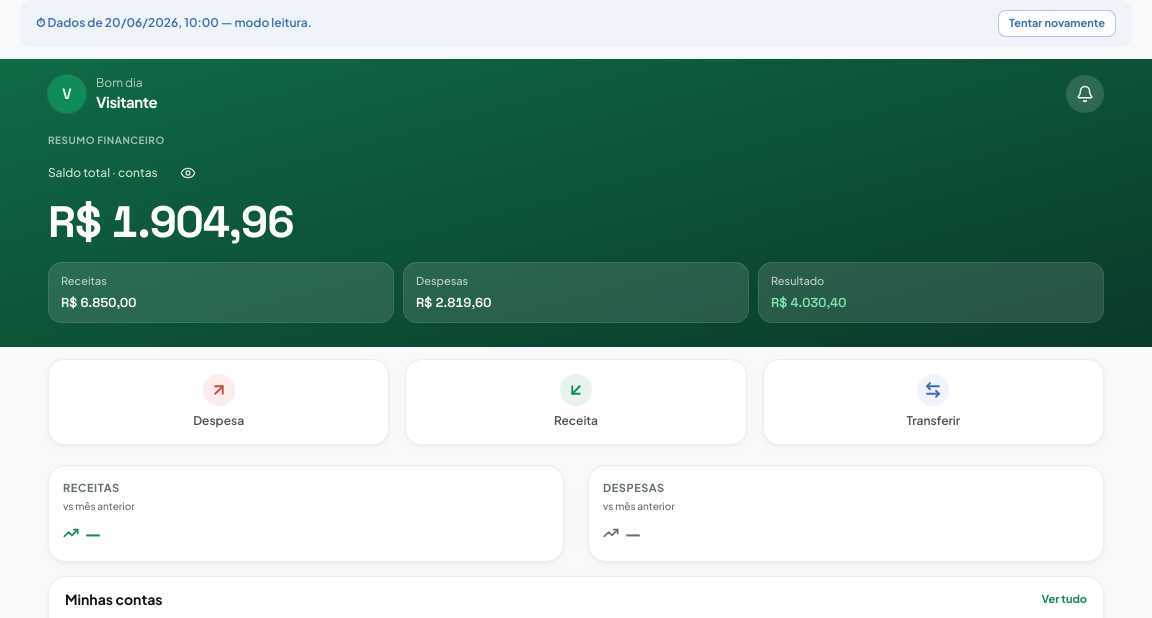
Test: HomePage › FIX-PWA-HOME-SNAPSHOT-SUMMARY: snapshot retry also recovers dashboardSummary › surfaces an accessible summary error with retry when strict summary fails; retry recovers without reload
The width and height of the screenshot is (1152, 618).
What coordinates should you click on to do the following:
click the button "Tentar novamente"
I would click on:
 (1057, 23)
Its box is [998,10,1116,36].
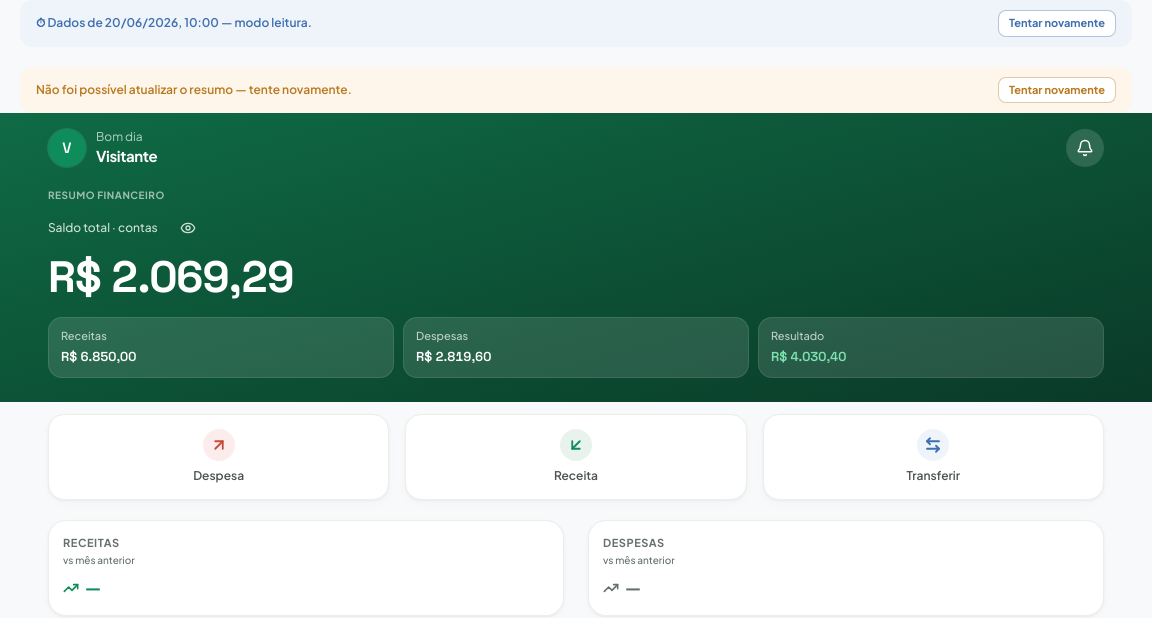
What coordinates should you click on to do the following:
click the button with aria-label "tentar atualizar resumo"
I would click on:
 (1057, 90)
Its box is [998,76,1116,103].
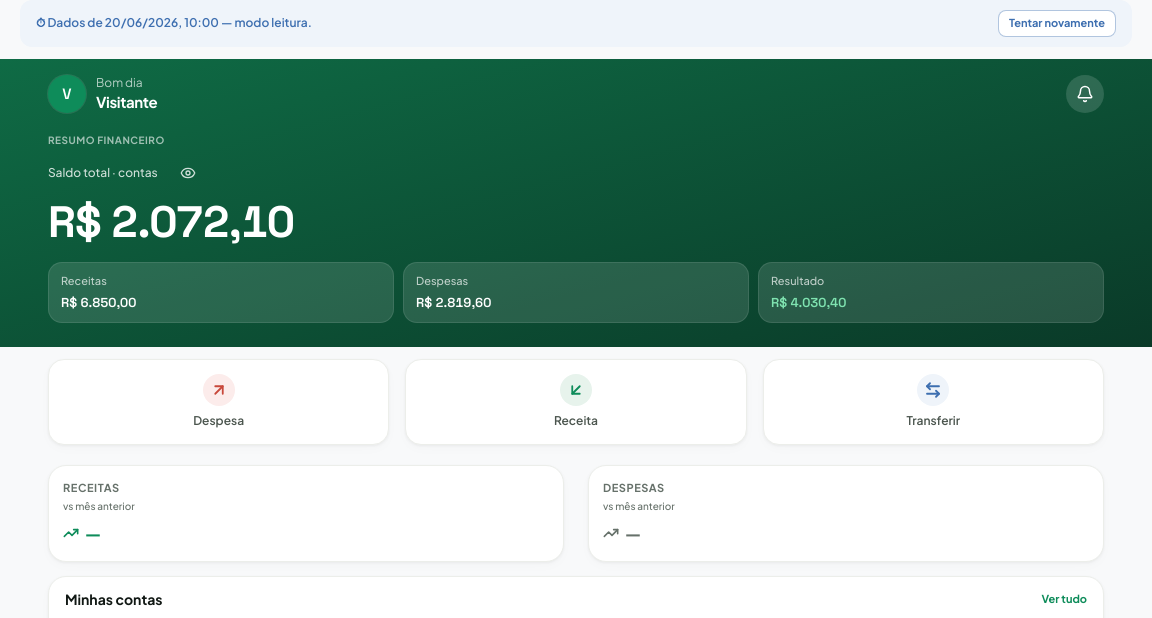
Expected: the message with test id "home-summary-error" is gone
